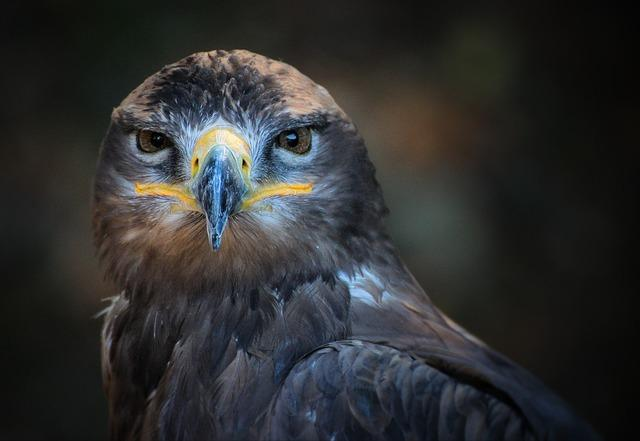bird: (93, 50, 600, 440)
